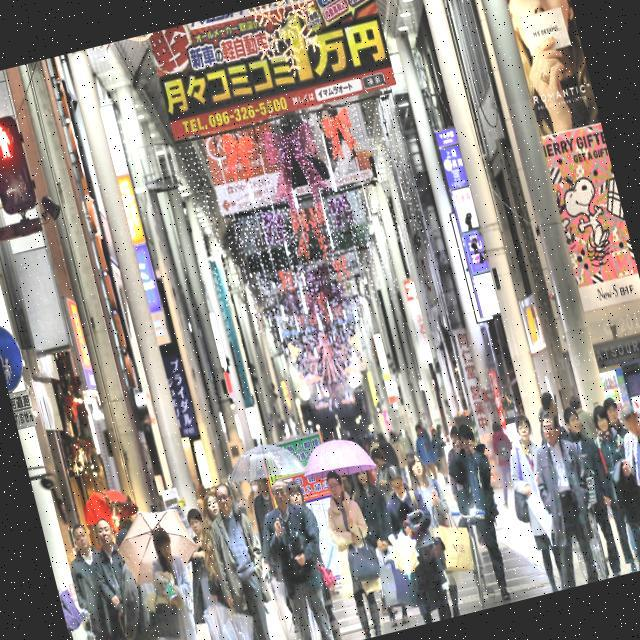red_light: (0, 121, 14, 162)
